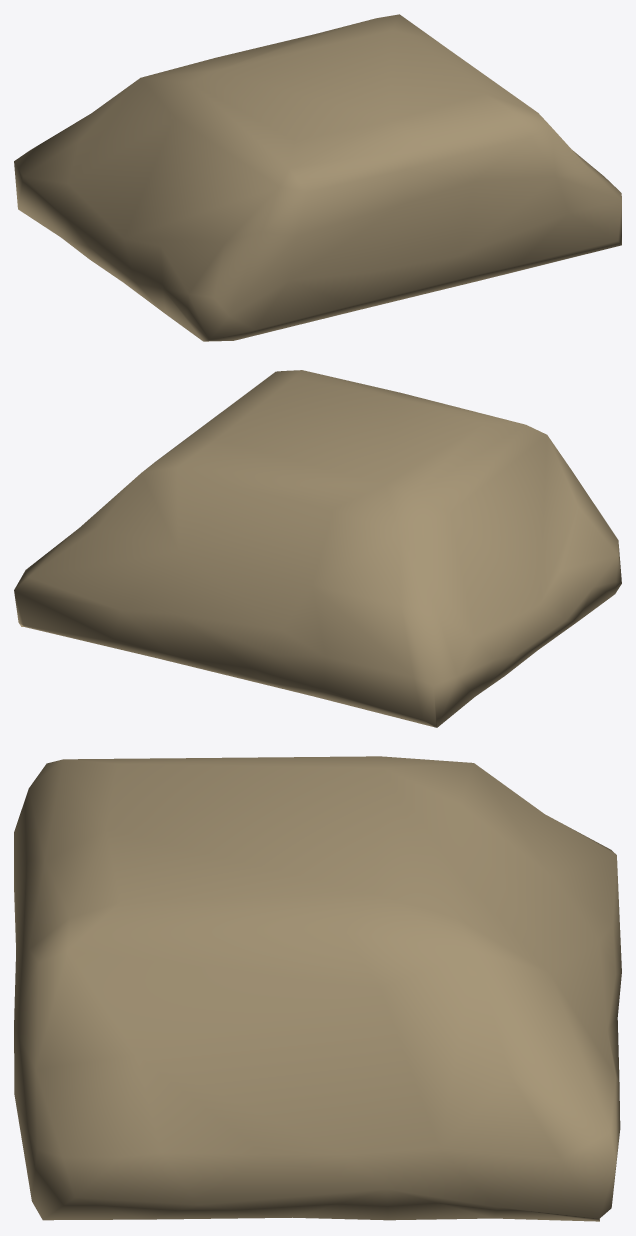
The model's file is Sofa.029.fbx.
3 views of the same model, one above another, from view 1: azimuth 30°, elevation 25°; view 2: azimuth 150°, elevation 25°; view 3: azimuth 270°, elevation 25° (orthographic). The views are drawn at different scales.
Parts seen in each view (by area): view 1: Sofa.029; view 2: Sofa.029; view 3: Sofa.029.
Part boxes in pixels (box(x1,y1,x2,y2)): Sofa.029: box(14, 14, 621, 341); Sofa.029: box(14, 370, 621, 727); Sofa.029: box(14, 756, 621, 1221).
Size of the model in its own units: 102 by 36.7 by 83.5.
